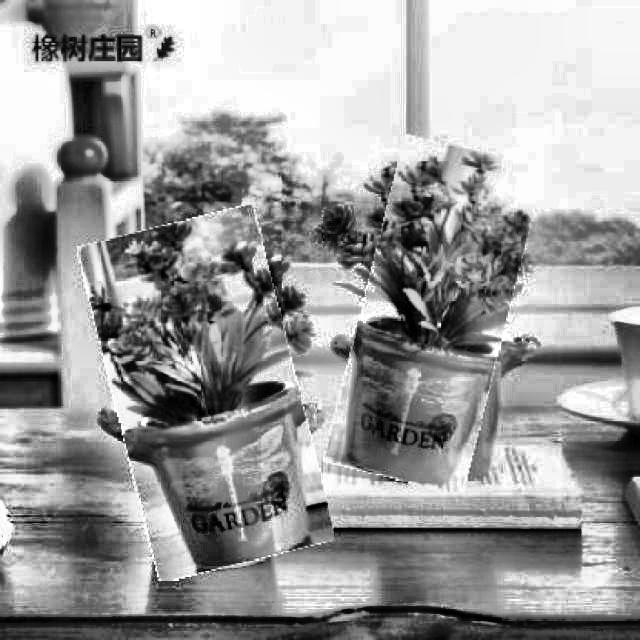plants: (96, 212, 316, 574), (342, 140, 524, 489)
